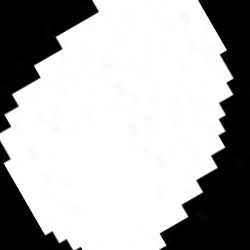spot: (2, 0, 236, 249)
